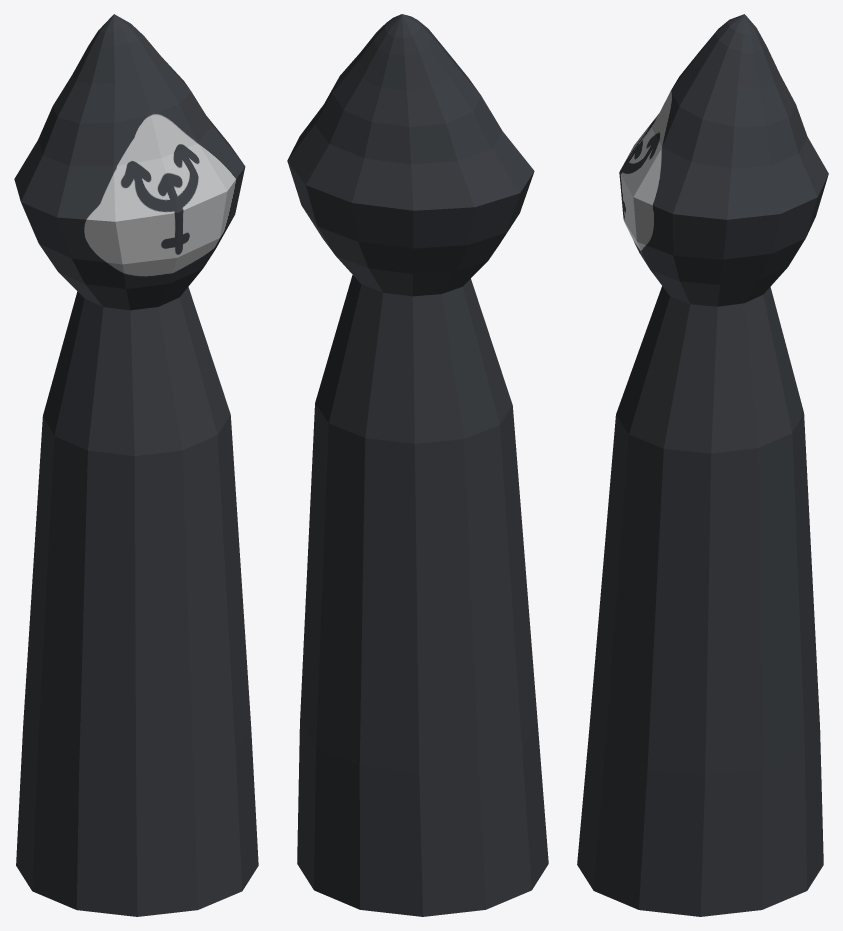
Rendered from Jumala2.fbx.
3 renders of one model, left to right at view 1: azimuth 30°, elevation 25°; view 2: azimuth 150°, elevation 25°; view 3: azimuth 270°, elevation 25°, orthographic. The views are drawn at different scales.
Visible parts, largest first — view 1: Jumala2; view 2: Jumala2; view 3: Jumala2.
Part boxes in pixels (<box>): Jumala2: <box>14,14,258,916</box>; Jumala2: <box>287,14,548,916</box>; Jumala2: <box>577,14,828,916</box>.
Bounding box in the file's own units: 336 × 1273 × 342.
